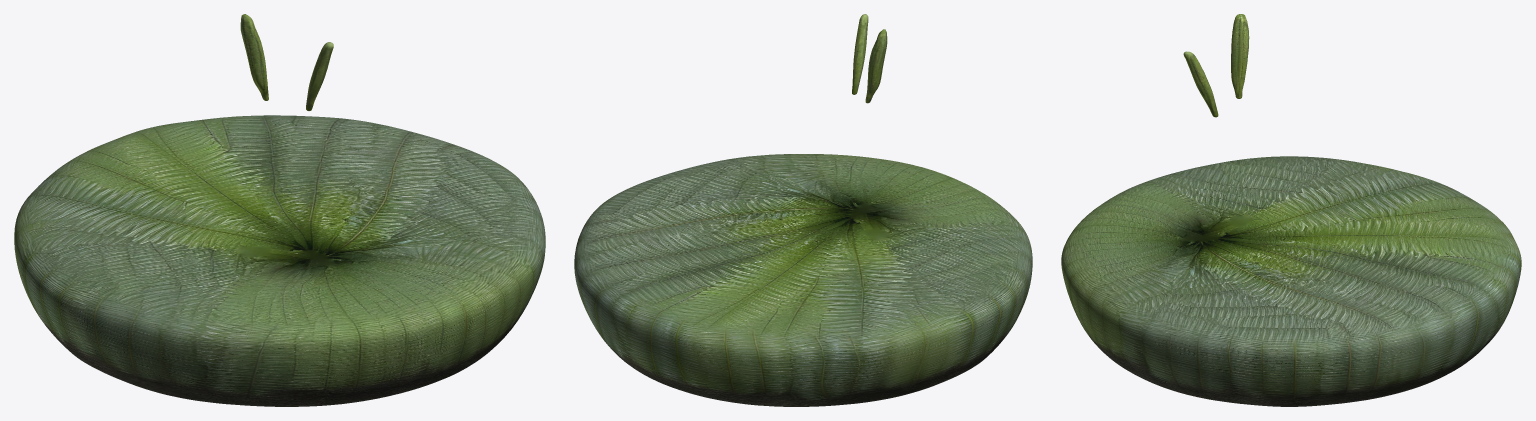
Rendered from fern-v1.glb.
The picture shows the model from 3 angles, left to right: view 1: azimuth 30°, elevation 25°; view 2: azimuth 150°, elevation 25°; view 3: azimuth 270°, elevation 25°; orthographic projection. The views are drawn at different scales.
Parts seen in each view (by area): view 1: fern metre normalization; view 2: fern metre normalization; view 3: fern metre normalization.
Part boxes in pixels (box(x1,y1,x2,y2)): fern metre normalization: box(14, 14, 545, 406); fern metre normalization: box(574, 14, 1032, 406); fern metre normalization: box(1061, 14, 1521, 406).
Bounding box in the file's own units: 0.95 × 0.65 × 0.95.
Materials: 1 (1 with a texture image).
